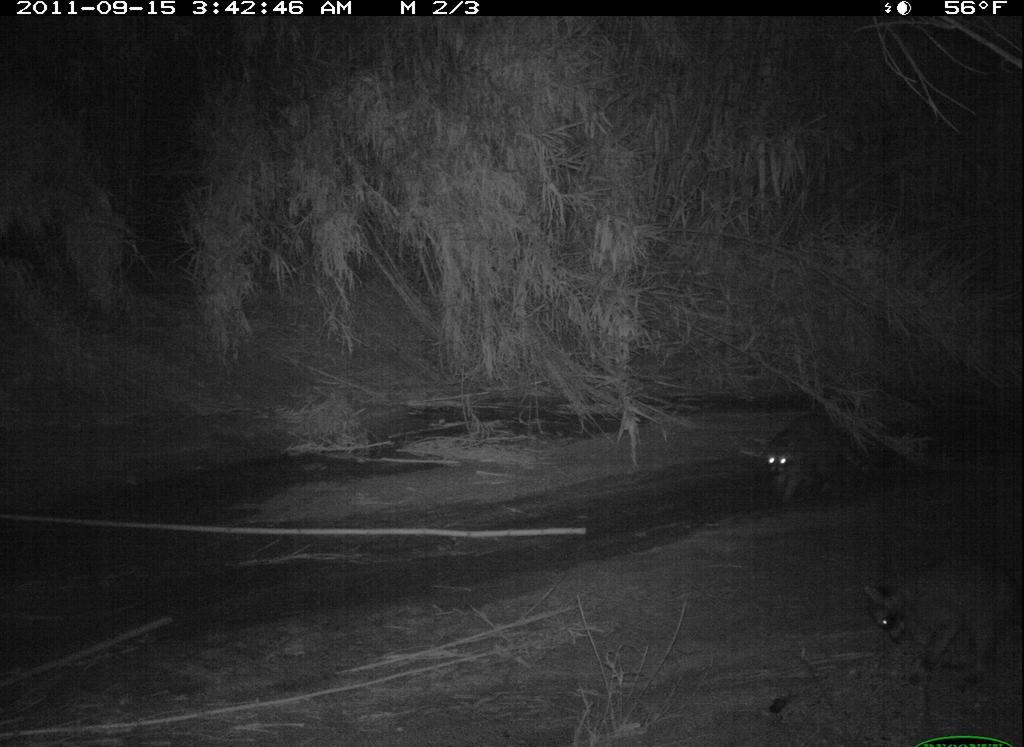raccoon: (866, 547, 1021, 702), (749, 400, 879, 516)
